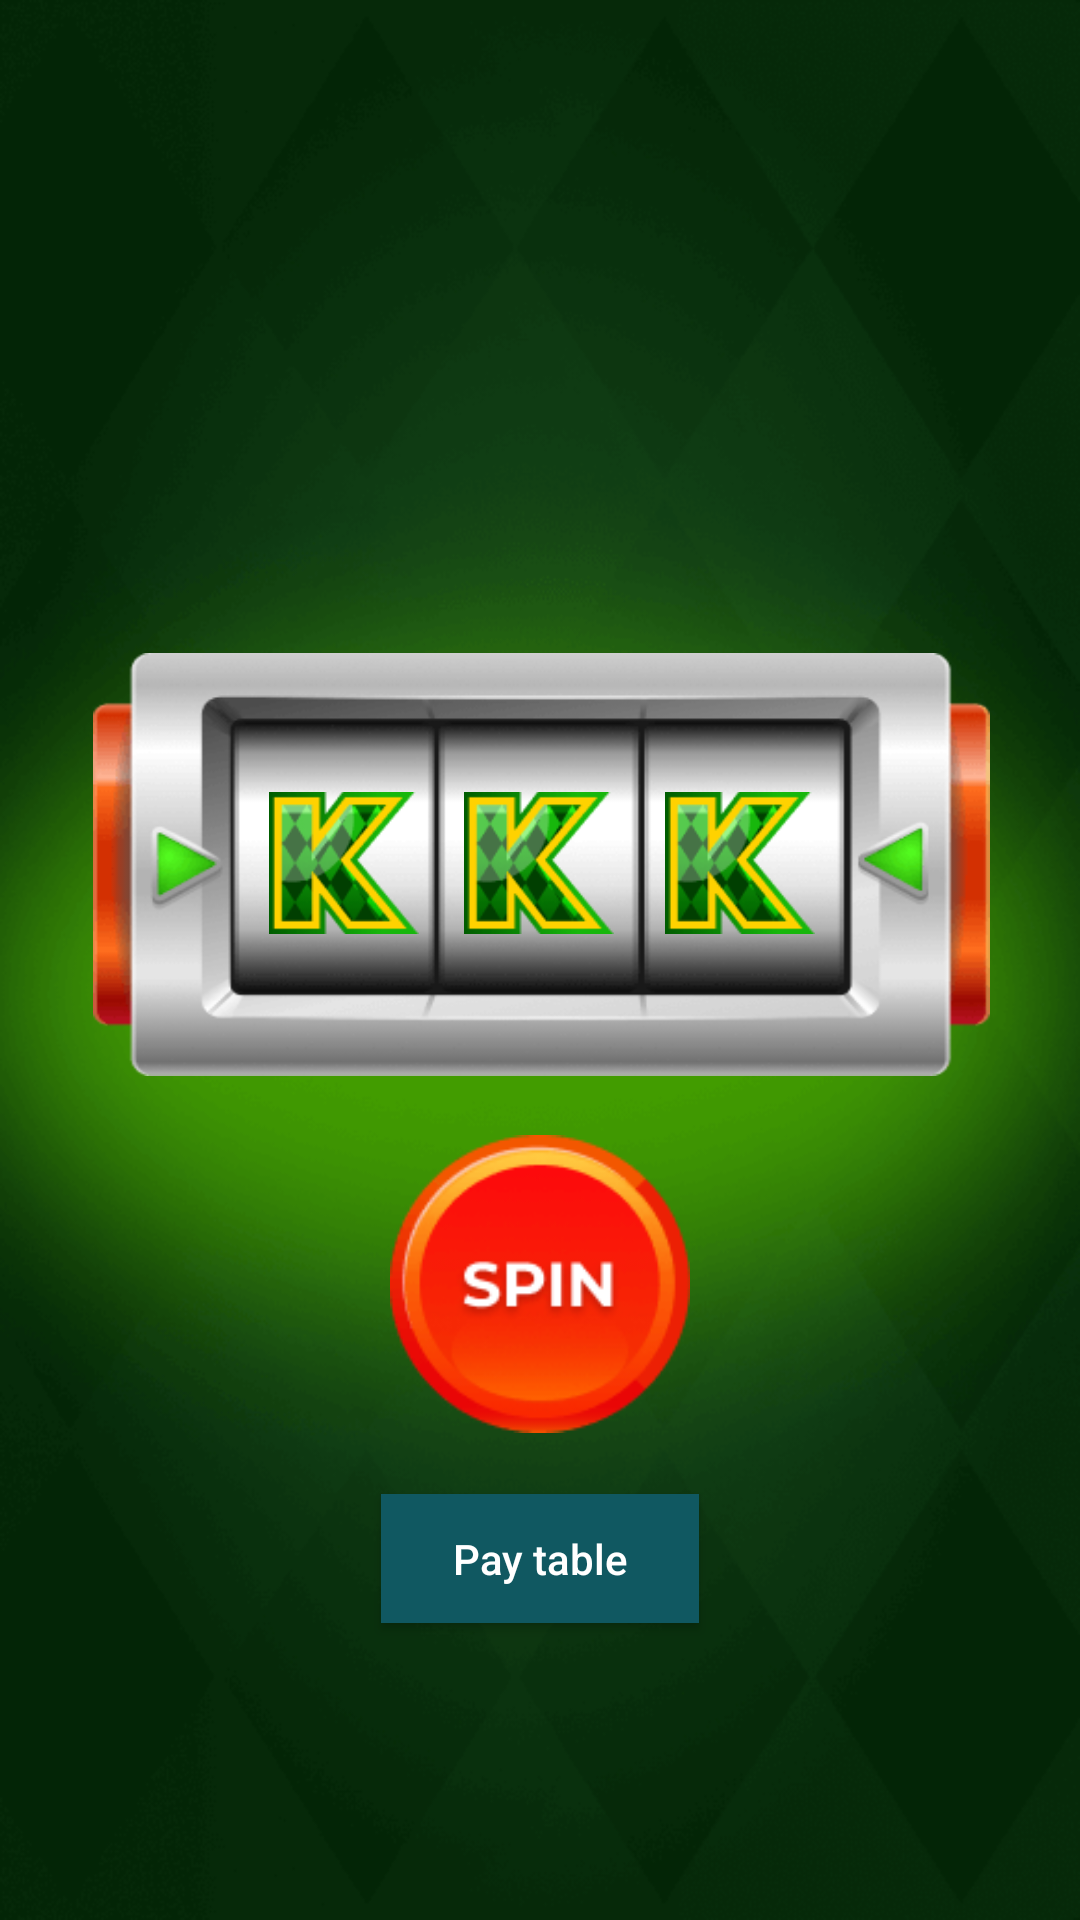

Screen size 1080x1920. Icon name, then its center in pixels as point (x, y):
jetscom slot: point (344, 863), point (539, 863), point (740, 863)
